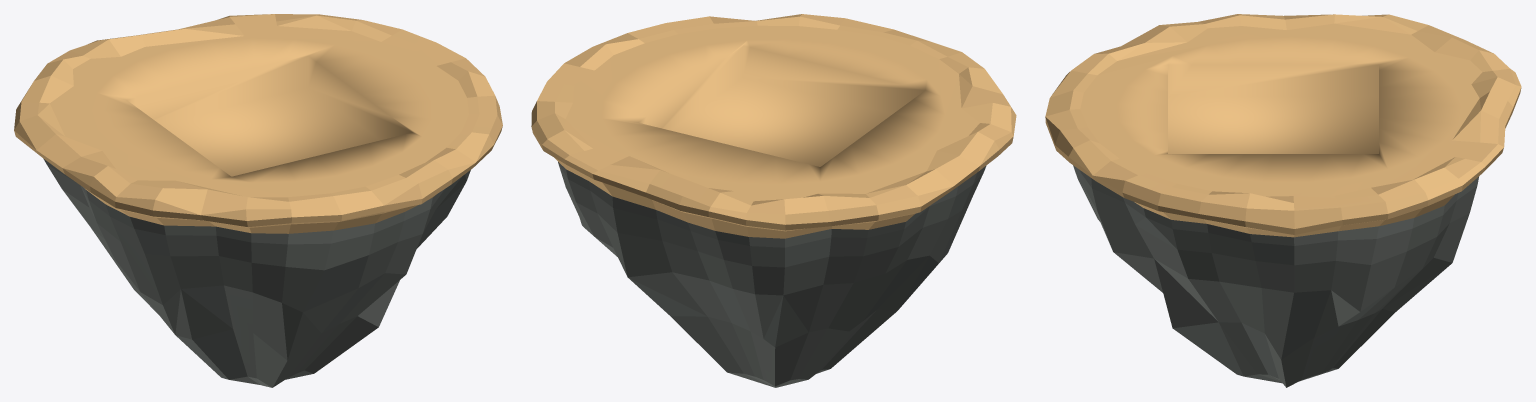
The model's file is Island6X6.fbx.
3 renders of one model, left to right at view 1: azimuth 30°, elevation 25°; view 2: azimuth 150°, elevation 25°; view 3: azimuth 270°, elevation 25°, orthographic.
Parts seen in each view (by area): view 1: Island; view 2: Island; view 3: Island.
Part boxes in pixels (<box>): Island: <box>14,14,502,387</box>; Island: <box>531,14,1016,387</box>; Island: <box>1045,14,1521,387</box>.
Size of the model in its own units: 2742 by 1784 by 2711.
